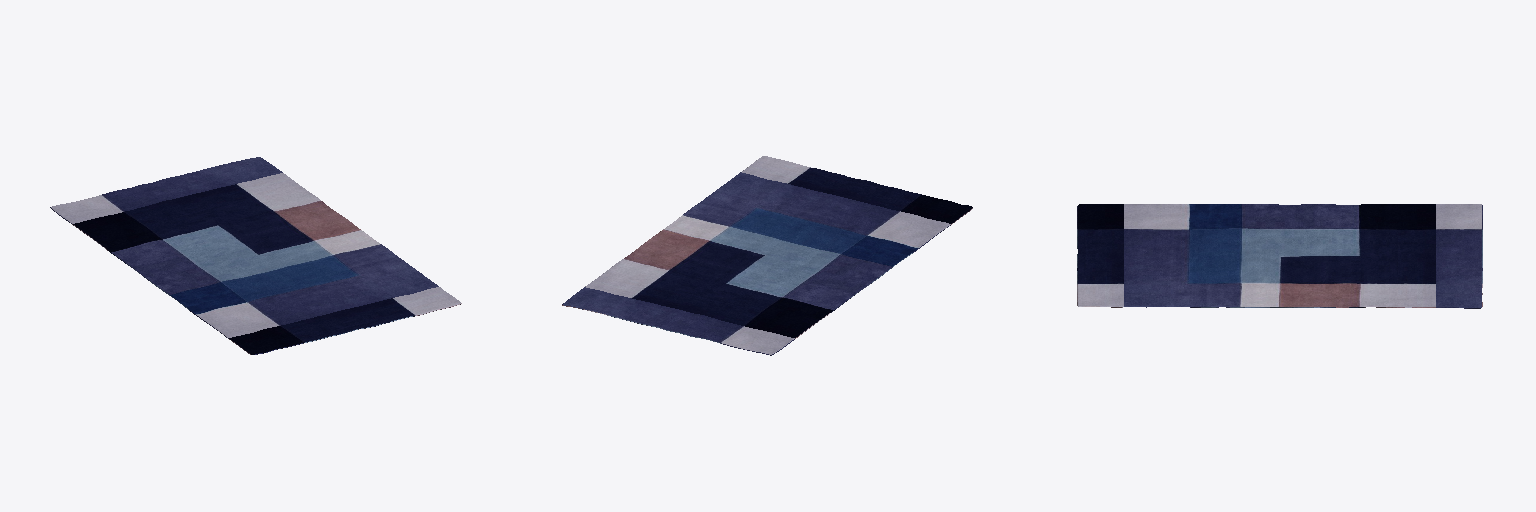
3 views of the same model, side by side, from view 1: azimuth 30°, elevation 25°; view 2: azimuth 150°, elevation 25°; view 3: azimuth 270°, elevation 25° (orthographic).
Visible parts, largest first — view 1: Carpet.003; view 2: Carpet.003; view 3: Carpet.003.
Boxes of the visible parts, x1=… form: Carpet.003: x1=50, y1=157, x2=461, y2=354; Carpet.003: x1=562, y1=156, x2=972, y2=355; Carpet.003: x1=1077, y1=204, x2=1482, y2=308.
Bounding box in the file's own units: 1.15 × 0.015 × 1.91.
Materials: 1 (1 with a texture image).